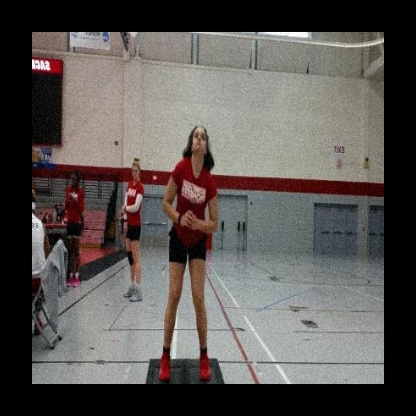lateral_flexion_right: (156, 120, 220, 384)
stance_width_normal: (157, 161, 221, 384)
